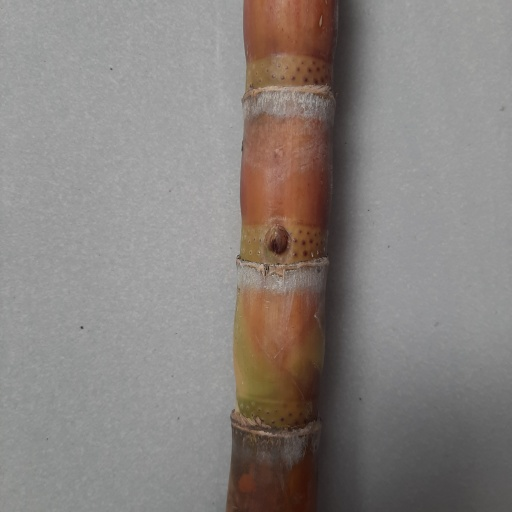Bud: (265, 225, 290, 256)
